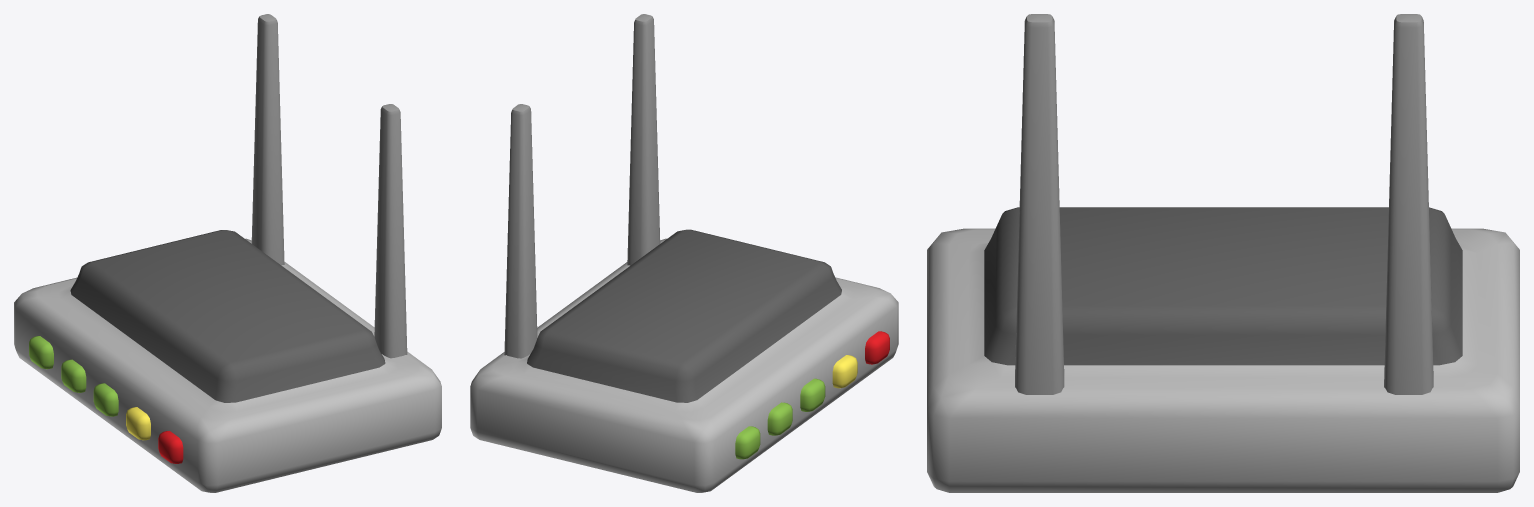
The model's file is Modem.fbx.
3 views of the same model, side by side, from view 1: azimuth 30°, elevation 25°; view 2: azimuth 150°, elevation 25°; view 3: azimuth 270°, elevation 25° (orthographic). The views are drawn at different scales.
Visible parts, largest first — view 1: Modem; view 2: Modem; view 3: Modem.
Part boxes in pixels (left/top/right/bottom): Modem: left=14, top=14, right=441, bottom=492; Modem: left=470, top=14, right=898, bottom=492; Modem: left=927, top=14, right=1519, bottom=492.
Bounding box in the file's own units: 0.1444 × 0.1948 × 0.1708.
